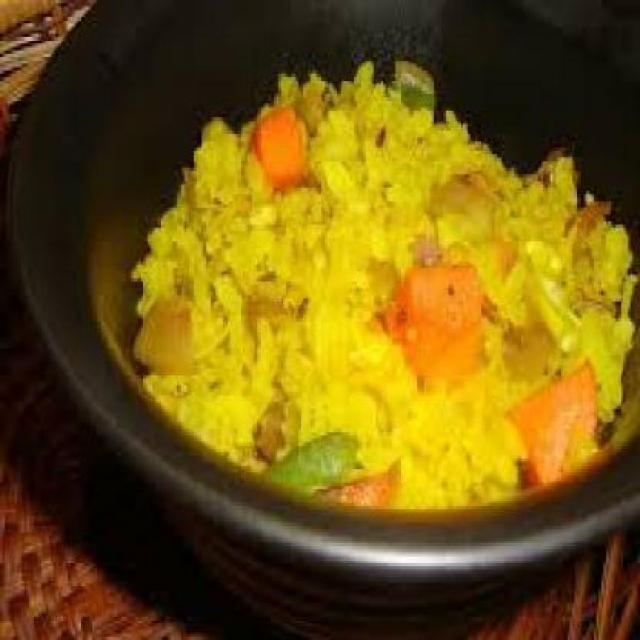poha: (132, 62, 638, 510)
